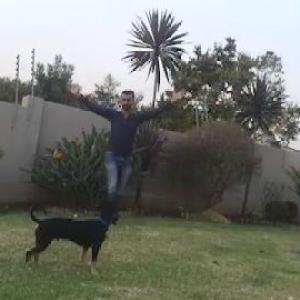takeoff: (70, 83, 198, 217)
